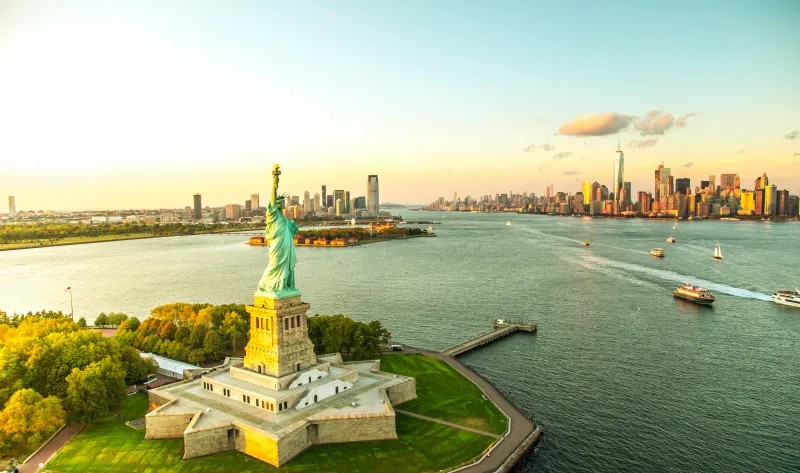SL: (243, 164, 317, 377)
